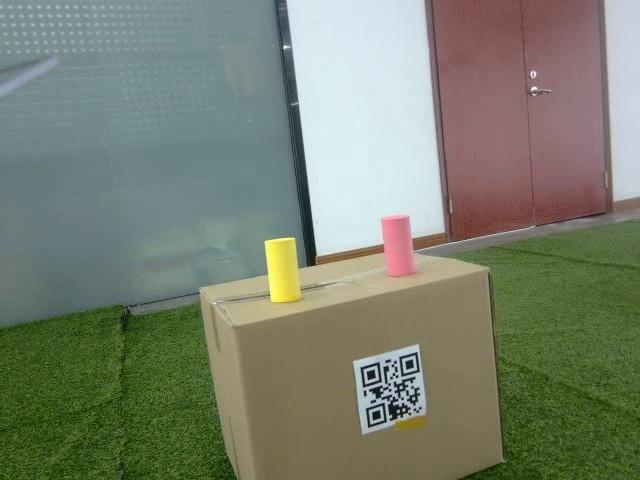red_cylinder: (381, 214, 416, 278)
yellow_cylinder: (264, 236, 302, 305)
